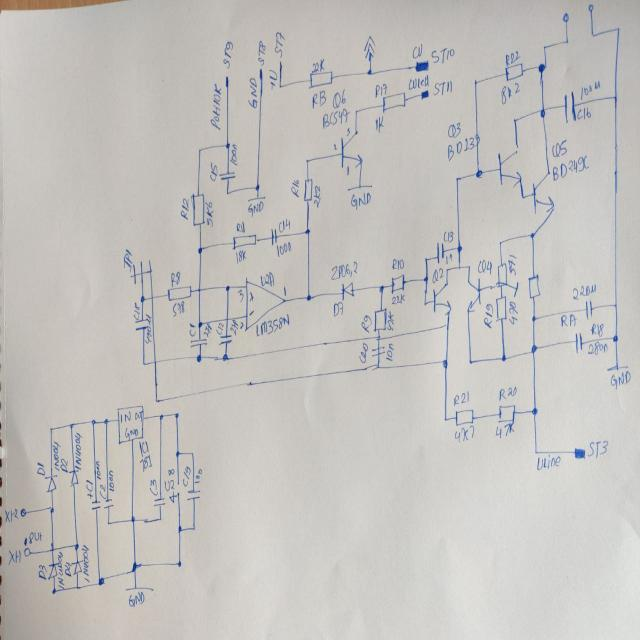capacitor: (562, 90, 576, 122), (86, 490, 102, 511), (185, 485, 201, 502), (574, 330, 584, 353), (133, 317, 149, 331), (190, 336, 208, 348), (102, 495, 116, 510), (584, 300, 594, 320), (219, 332, 233, 346), (371, 344, 385, 358), (436, 241, 444, 264), (152, 494, 166, 507), (268, 228, 278, 245), (220, 169, 234, 181)
crossover: (152, 358, 158, 366), (148, 293, 154, 301), (196, 286, 202, 293), (224, 316, 230, 323), (375, 335, 381, 341), (49, 546, 55, 552)
diode: (43, 471, 59, 494), (340, 278, 354, 302), (68, 466, 80, 488), (71, 558, 83, 575), (48, 561, 58, 580)
ground: (347, 182, 372, 192), (605, 363, 629, 373), (124, 586, 154, 592)
junction: (537, 61, 547, 74), (129, 561, 139, 572), (538, 107, 546, 119), (474, 166, 482, 178), (530, 342, 538, 354), (97, 575, 105, 586), (530, 406, 538, 416), (611, 333, 619, 343), (305, 292, 313, 302), (442, 358, 448, 370), (195, 352, 202, 362), (222, 351, 228, 362), (366, 67, 373, 76), (456, 242, 462, 252), (224, 282, 230, 292), (224, 140, 230, 150), (197, 245, 203, 255), (254, 182, 260, 192), (500, 352, 506, 362), (48, 504, 54, 514), (304, 226, 310, 235), (176, 559, 182, 568), (176, 524, 182, 533), (158, 411, 164, 420), (614, 24, 620, 33), (140, 293, 146, 302), (153, 396, 159, 405), (443, 321, 449, 330), (378, 284, 384, 292), (129, 514, 135, 522), (90, 418, 96, 426), (472, 77, 478, 85), (103, 417, 109, 425), (174, 450, 180, 458), (51, 586, 57, 594), (173, 411, 179, 419), (529, 231, 535, 239), (590, 30, 596, 38), (612, 301, 618, 309), (612, 92, 618, 100), (73, 542, 79, 550), (530, 314, 536, 322), (197, 320, 203, 328), (454, 174, 460, 181), (520, 192, 525, 200), (564, 37, 569, 44), (375, 362, 380, 369), (158, 514, 162, 522), (278, 82, 282, 90), (423, 300, 427, 308), (512, 116, 517, 122), (353, 108, 358, 114), (423, 256, 428, 262), (456, 263, 461, 269), (305, 157, 309, 164), (542, 42, 546, 49), (48, 425, 52, 432), (69, 421, 73, 428), (190, 449, 194, 456), (225, 188, 229, 195), (467, 263, 471, 270), (443, 416, 447, 422), (468, 358, 472, 364), (498, 239, 502, 245), (141, 360, 145, 366), (106, 520, 110, 526), (424, 276, 428, 282), (445, 266, 449, 272), (75, 584, 79, 590), (191, 525, 195, 530), (197, 147, 201, 152), (534, 449, 538, 454)
resistor: (494, 262, 518, 297), (190, 190, 206, 232), (382, 89, 406, 113), (496, 401, 518, 425), (166, 284, 192, 302), (231, 233, 257, 251), (309, 69, 332, 87), (373, 305, 387, 334), (504, 61, 524, 81), (526, 272, 540, 300), (454, 407, 474, 426), (494, 294, 506, 323), (389, 273, 405, 292), (302, 176, 312, 202)
source: (363, 33, 375, 60)
switch: (129, 256, 155, 284)
terminal: (414, 59, 429, 73), (572, 446, 586, 460), (561, 11, 569, 23), (587, 1, 595, 13), (420, 89, 428, 99), (23, 546, 31, 556), (19, 507, 27, 517), (223, 74, 230, 82), (258, 66, 263, 73), (176, 478, 180, 486), (278, 59, 282, 66), (176, 490, 180, 495)
text: (551, 154, 589, 182), (254, 312, 290, 338), (446, 132, 477, 160), (328, 258, 360, 281), (210, 82, 223, 133), (321, 108, 349, 128), (570, 281, 596, 302), (246, 74, 259, 112), (139, 439, 153, 473), (500, 81, 520, 104), (586, 439, 608, 459), (453, 423, 475, 443), (609, 370, 631, 390), (430, 46, 454, 64), (535, 454, 561, 470), (80, 543, 90, 583), (494, 420, 514, 440), (580, 80, 600, 100), (349, 191, 371, 208), (74, 428, 82, 474), (433, 79, 453, 97), (550, 138, 568, 158), (222, 39, 234, 69), (127, 590, 145, 610), (406, 74, 428, 90), (22, 530, 42, 547), (310, 87, 326, 108), (586, 340, 608, 355), (254, 39, 266, 66), (332, 86, 348, 106), (51, 439, 60, 474), (331, 298, 345, 320), (259, 269, 276, 287), (482, 301, 493, 328), (273, 30, 284, 57), (453, 389, 469, 407), (171, 300, 185, 320), (504, 49, 520, 66), (391, 254, 405, 273), (373, 79, 387, 98), (360, 312, 372, 334), (123, 246, 133, 272), (268, 66, 278, 92), (448, 121, 464, 137), (276, 240, 292, 256), (310, 57, 326, 73), (590, 320, 604, 338), (148, 476, 160, 497), (7, 548, 21, 566), (498, 384, 516, 398), (508, 300, 518, 325), (107, 468, 117, 493), (290, 174, 300, 198), (57, 549, 63, 589), (179, 196, 189, 220), (560, 312, 576, 327), (358, 340, 368, 364), (476, 258, 492, 273), (181, 463, 191, 487), (431, 266, 444, 284), (247, 200, 265, 213), (209, 157, 217, 186), (507, 252, 517, 275), (234, 217, 247, 234), (59, 453, 70, 473), (279, 215, 291, 233), (205, 199, 213, 226), (4, 507, 18, 522), (576, 106, 591, 120), (412, 43, 424, 60), (145, 312, 151, 346), (94, 456, 102, 481), (125, 426, 138, 441), (118, 409, 131, 424), (391, 294, 407, 306), (229, 317, 239, 336), (36, 460, 46, 479), (37, 561, 47, 580), (385, 341, 394, 362), (230, 142, 238, 165), (374, 114, 384, 132), (203, 320, 213, 338), (387, 310, 395, 332), (187, 320, 197, 337), (170, 270, 180, 287), (235, 250, 248, 263), (132, 300, 140, 321), (99, 479, 107, 500), (313, 182, 320, 206), (216, 320, 226, 336), (194, 466, 202, 486), (85, 476, 94, 492), (442, 230, 454, 242), (163, 478, 175, 490), (444, 252, 454, 265), (134, 408, 144, 421), (64, 561, 72, 577), (236, 288, 244, 303), (169, 490, 177, 503), (167, 466, 175, 476), (282, 284, 288, 297), (248, 290, 254, 303), (344, 126, 350, 137), (346, 164, 350, 177), (332, 143, 338, 151), (239, 320, 244, 329), (250, 308, 254, 316)
transistor: (530, 167, 556, 215), (496, 145, 522, 189), (339, 129, 363, 169), (431, 282, 452, 315), (466, 277, 482, 313)
